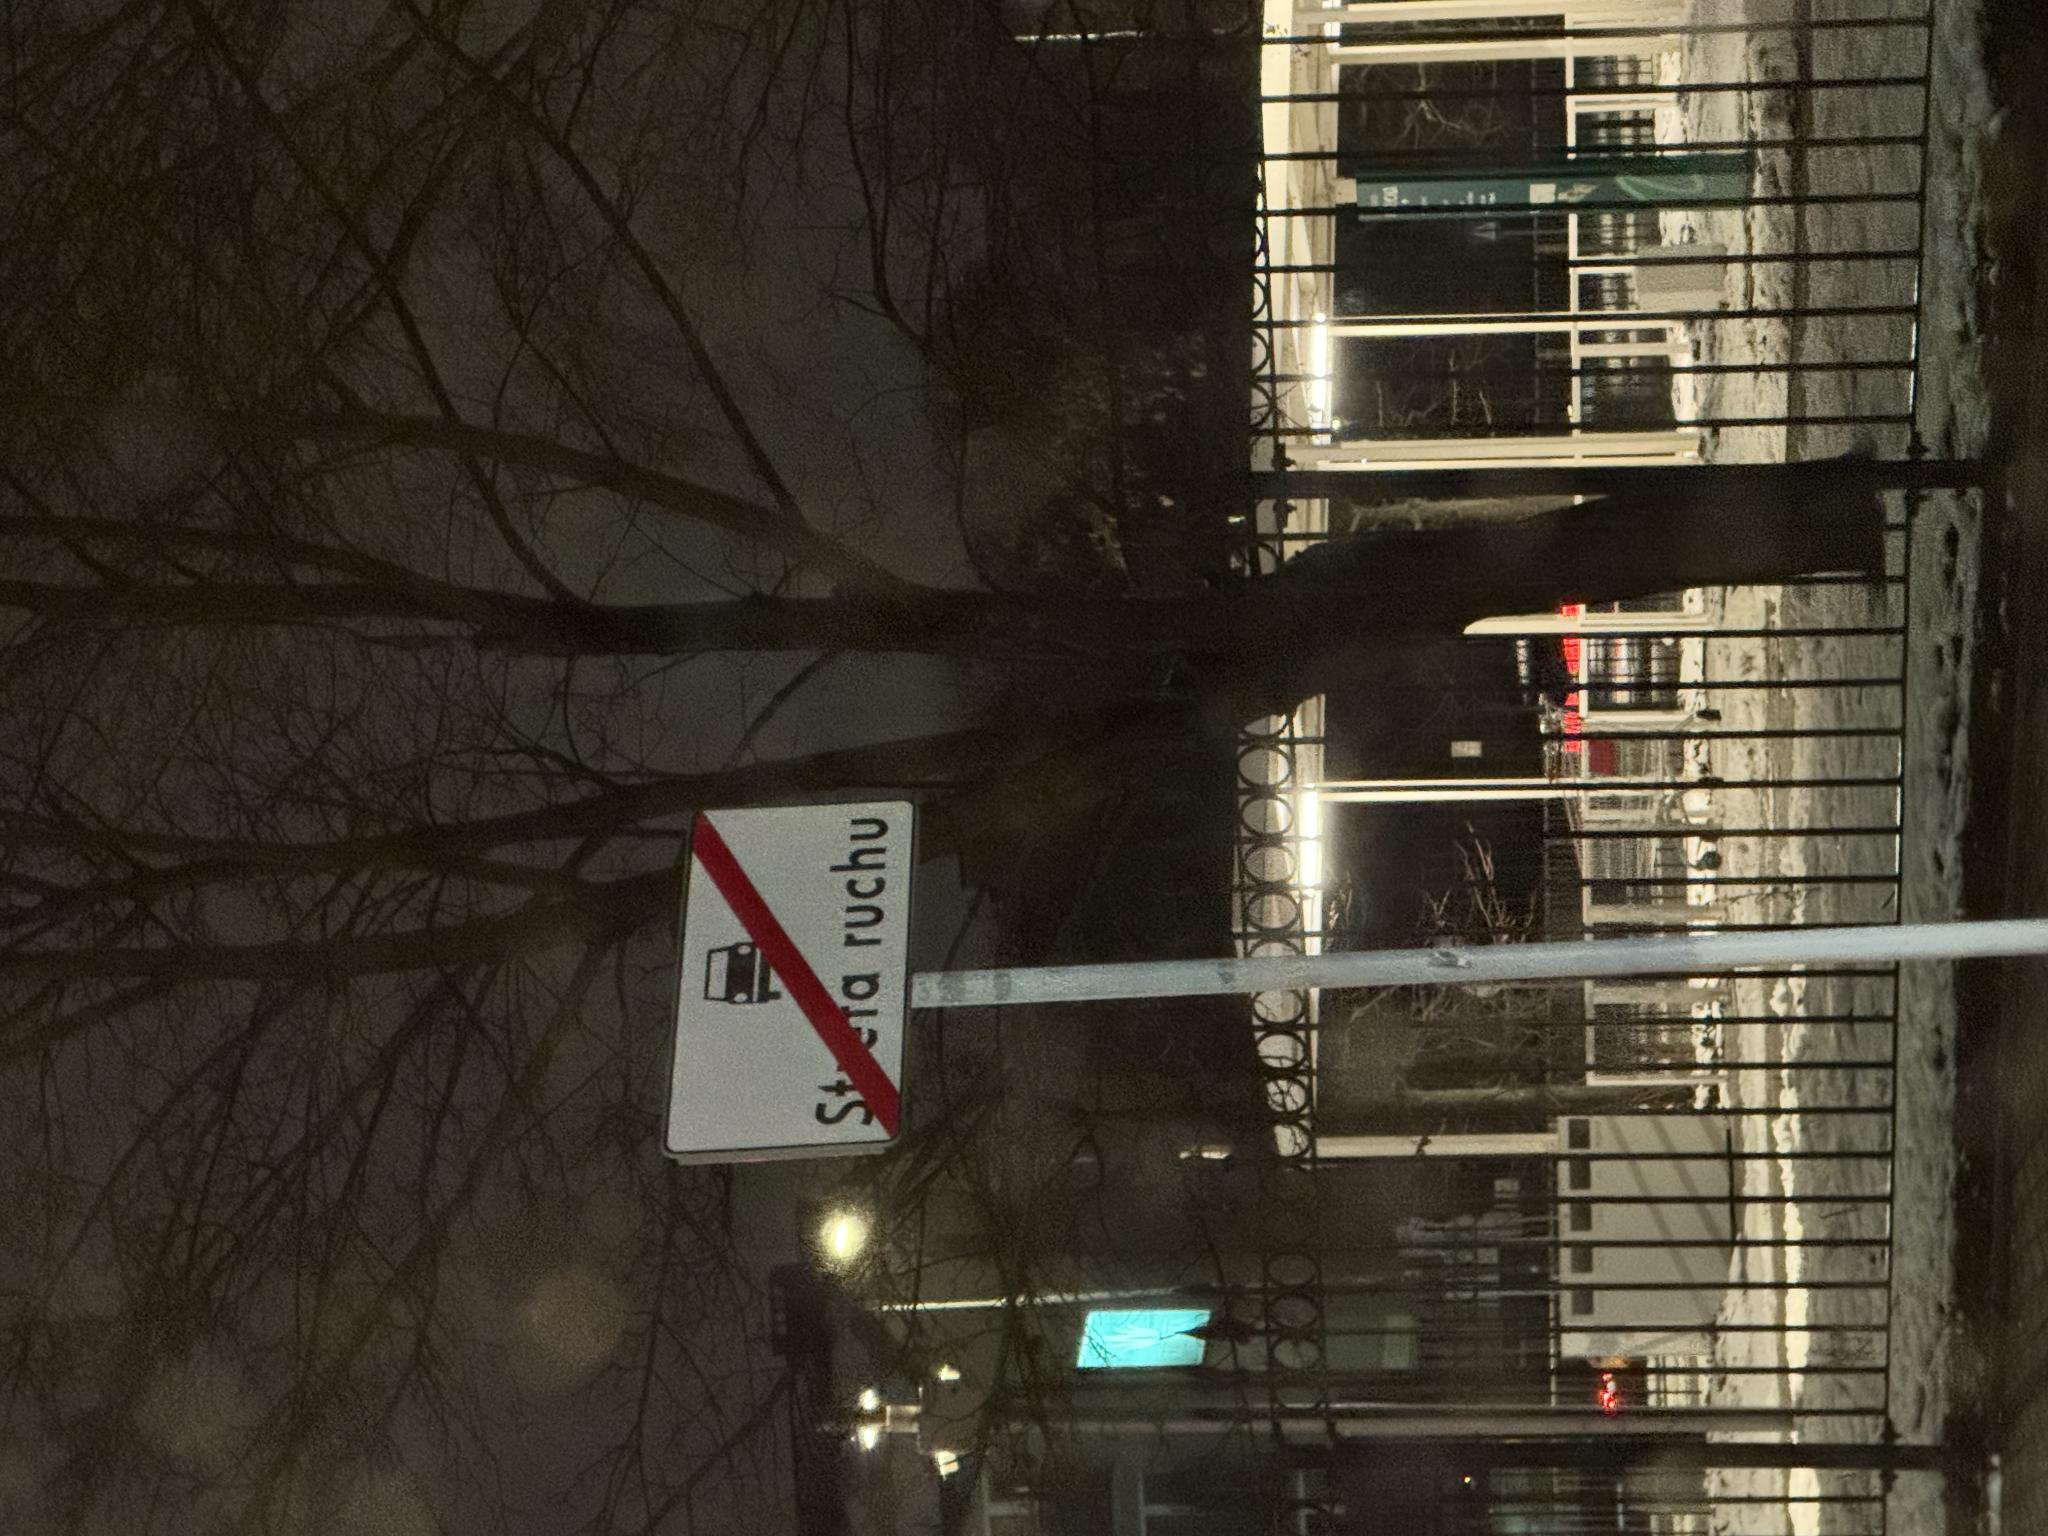information: (366, 656, 744, 922)
